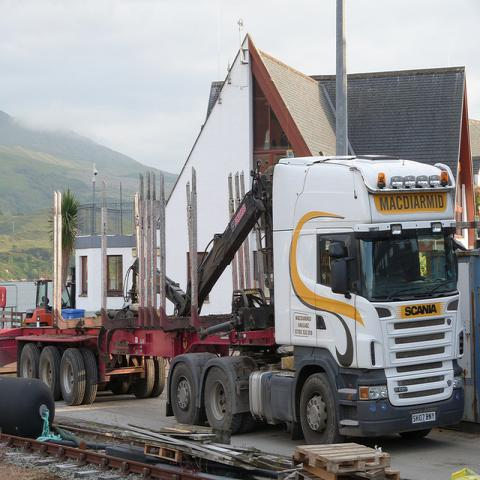truck: (2, 153, 469, 441)
